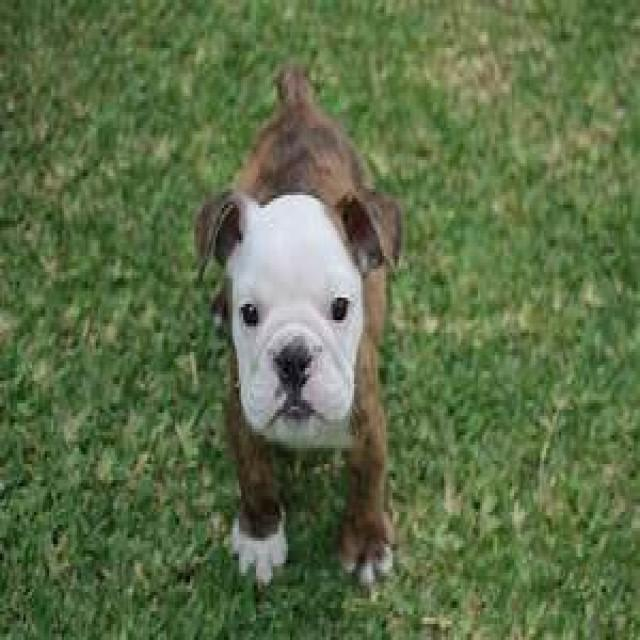dog: (196, 68, 401, 584)
